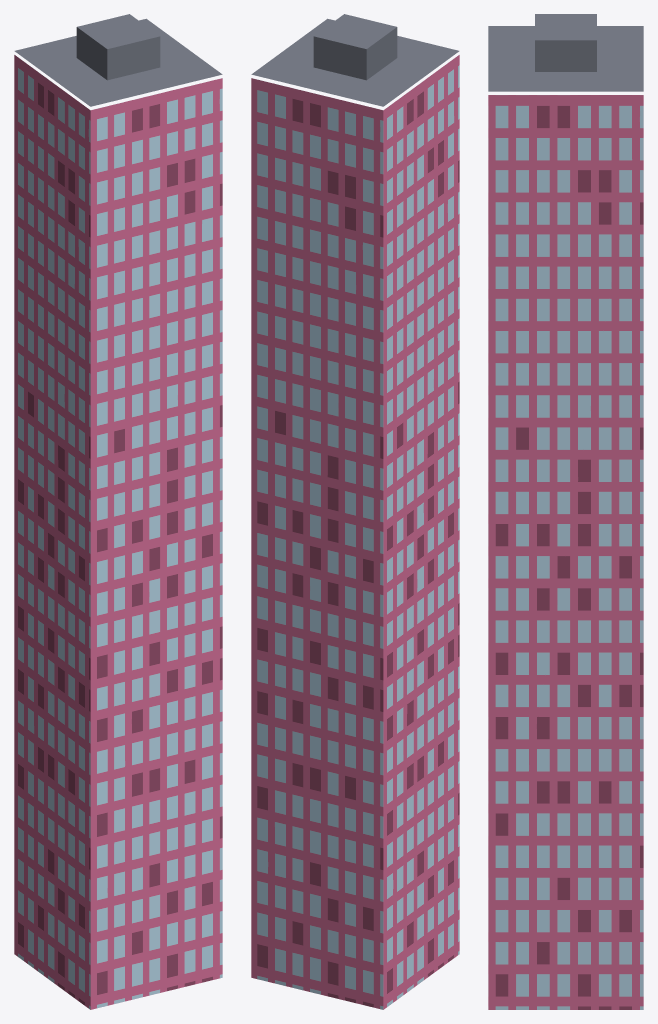
The model's file is skyscraper_pink.glb.
3 renders of one model, left to right at view 1: azimuth 30°, elevation 25°; view 2: azimuth 150°, elevation 25°; view 3: azimuth 270°, elevation 25°, orthographic.
Parts seen in each view (by area): view 1: skyscraper_pink; view 2: skyscraper_pink; view 3: skyscraper_pink.
Boxes of the visible parts, x1,y1,x2,y2 form: skyscraper_pink: (14,14,222,1009); skyscraper_pink: (251,14,459,1009); skyscraper_pink: (488,14,643,1009).
Bounding box in the file's own units: 4 × 27 × 4.
2 materials, 1 textured.
